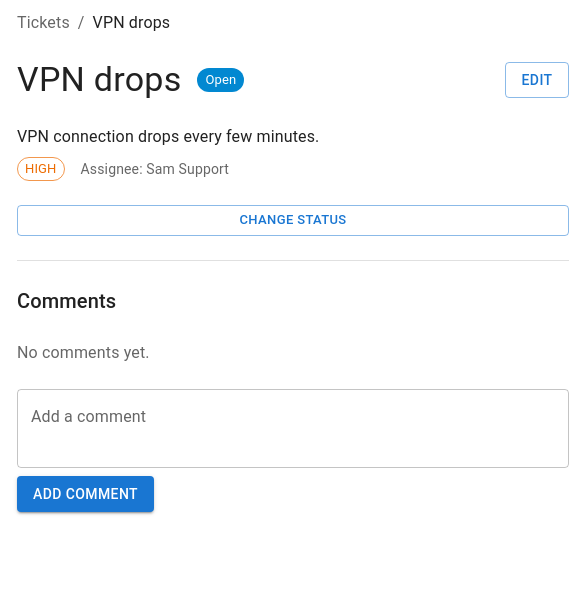
Test: Comment authorship and authorization (FR-021–FR-023) › shows the comment form and succeeds for the assigned SUPPORT user
Type "Investigating now." into the text box labelled "Add a comment" at {"x": 293, "y": 428}, box [31,405,555,451]
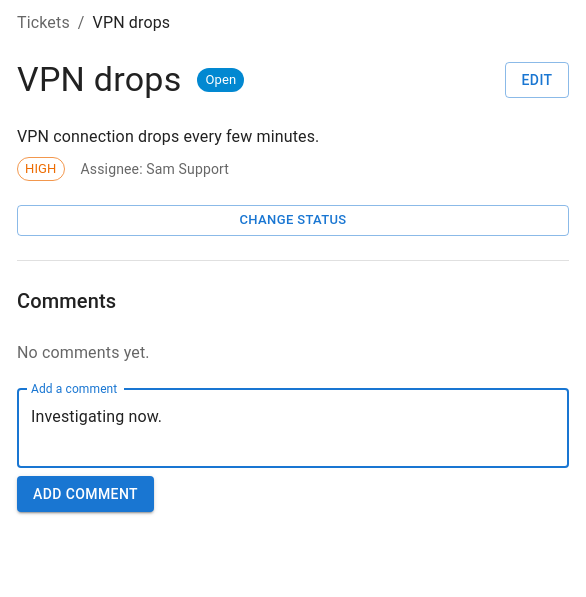
Click the button "Add Comment" at {"x": 86, "y": 494}, box [17,476,154,512]
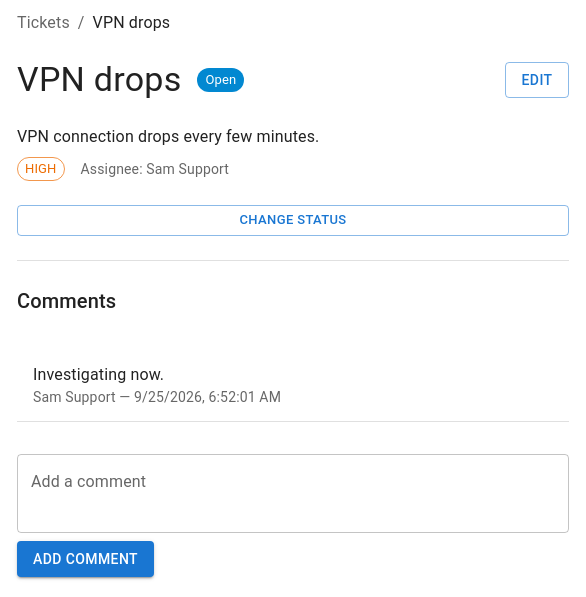
Check: the text "Investigating now." is shown, box [33,365,164,384]
